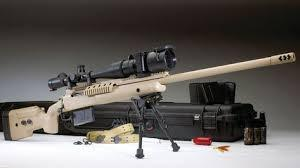rifle: (2, 48, 297, 143)
